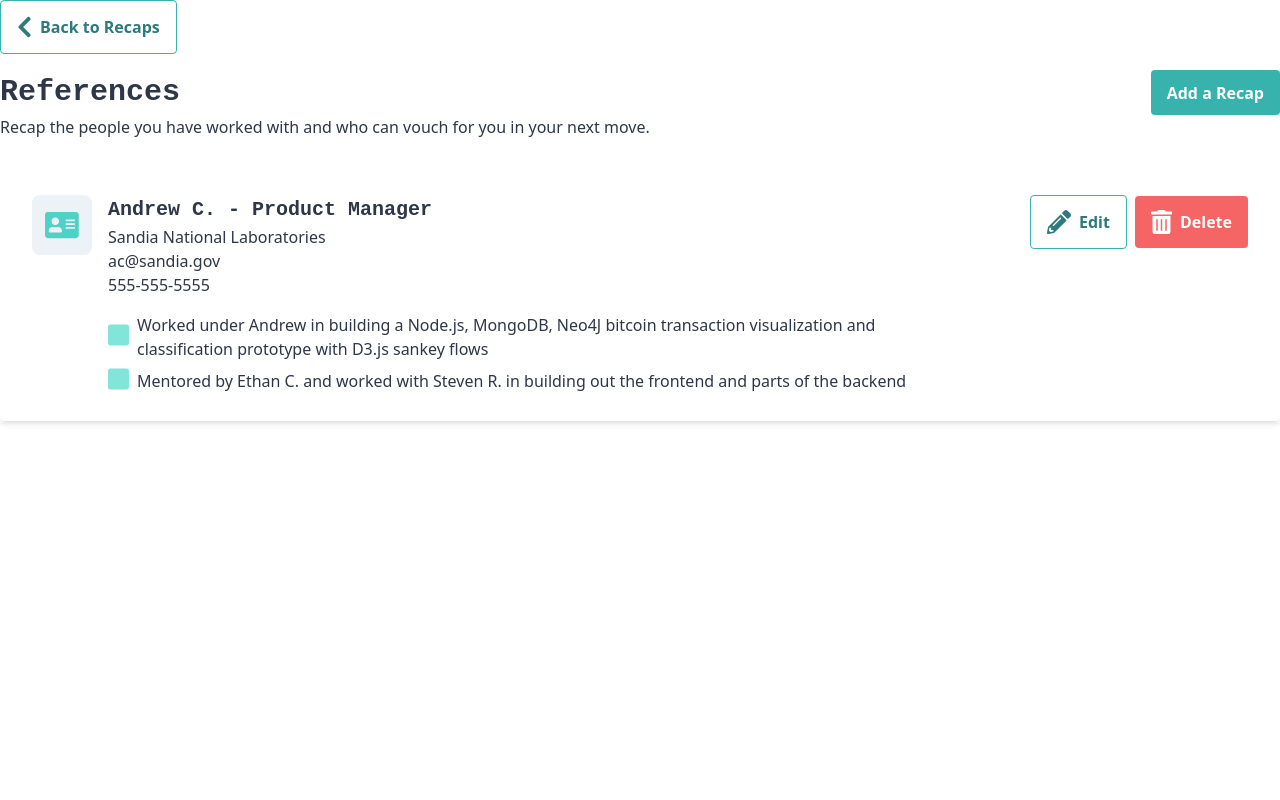
Test: <ReferencesLayout /> › should show the success alert after deleting a recap successfully
The image size is (1280, 800).
Click the button "Delete" at (1192,222), box [1135,196,1248,248]
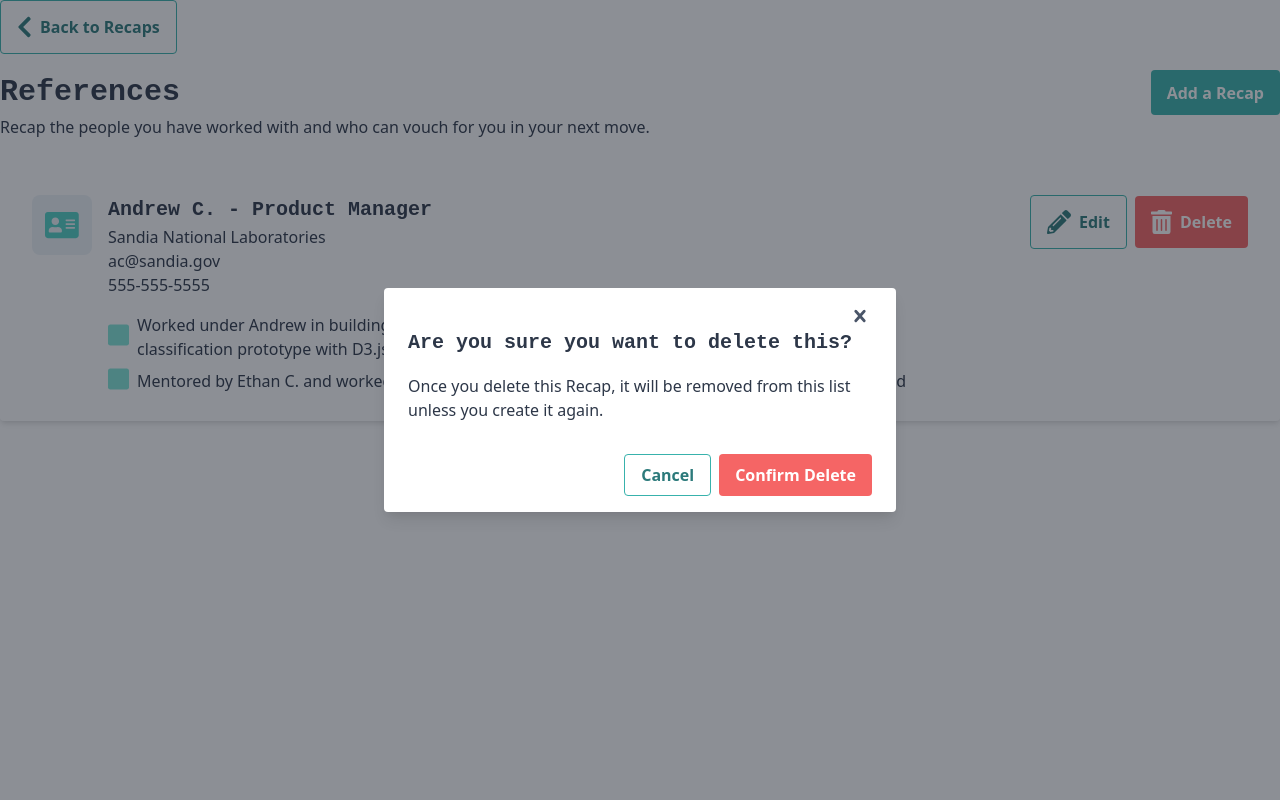
Expected: the heading "Are you sure you want to delete this?" is shown, [408,328,872,358]
Click the button "Confirm Delete" at (796,475), box [719,454,872,496]
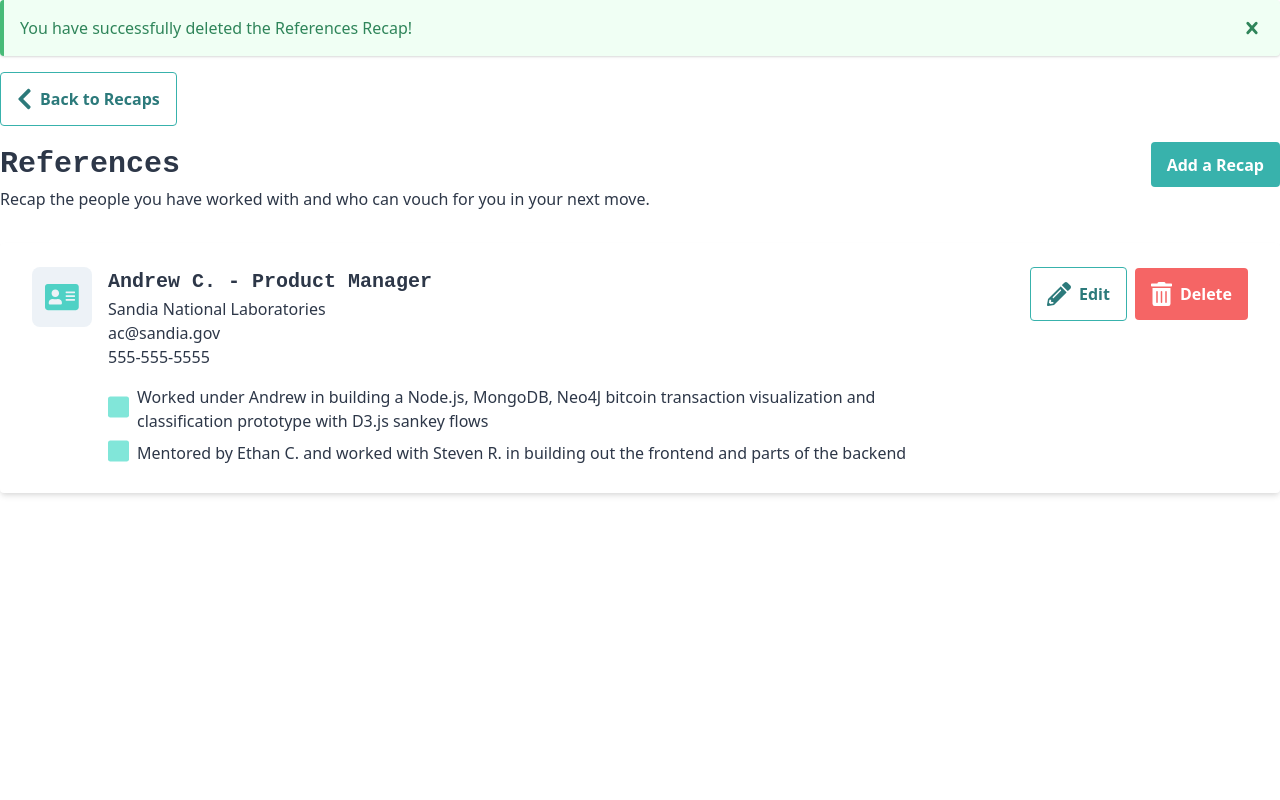
Expected: the heading "Are you sure you want to delete this?" is gone
Expected: the text "You have successfully deleted the References Recap!" is shown, [20,17,412,39]
